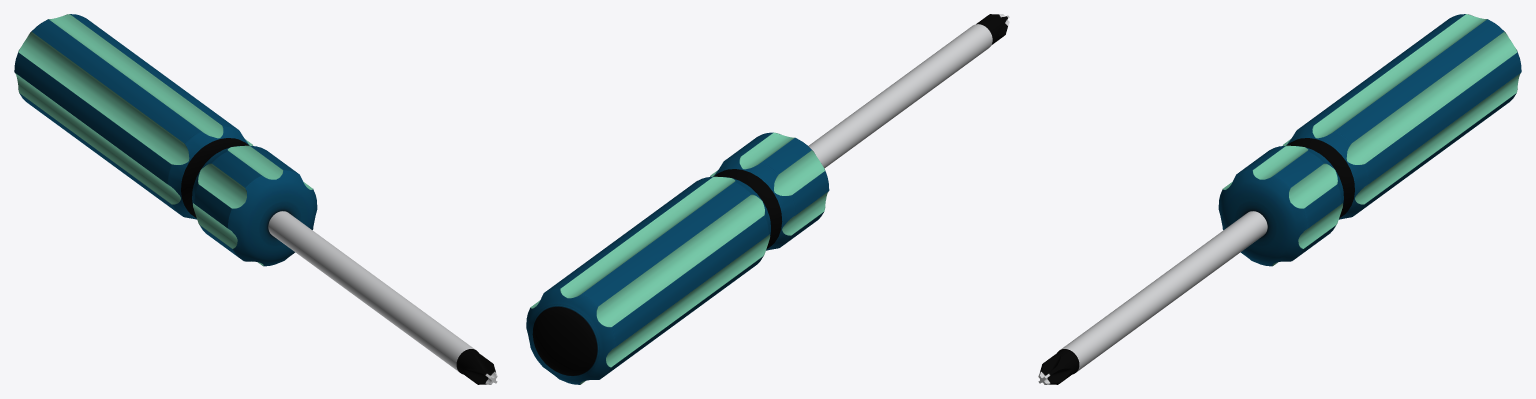
The model's file is final_screwdriver_v2.glb.
The picture shows the model from 3 angles, left to right: view 1: azimuth 30°, elevation 25°; view 2: azimuth 150°, elevation 25°; view 3: azimuth 330°, elevation 25°; orthographic projection.
Parts seen in each view (by area): view 1: phillips_screwdriver_LP; view 2: phillips_screwdriver_LP; view 3: phillips_screwdriver_LP.
Boxes of the visible parts, x1=… form: phillips_screwdriver_LP: x1=14, y1=14, x2=497, y2=384; phillips_screwdriver_LP: x1=526, y1=14, x2=1009, y2=384; phillips_screwdriver_LP: x1=1038, y1=14, x2=1521, y2=384.
Bounding box in the file's own units: 1.75 × 1.73 × 15.11.
Materials: 1 (1 with a texture image).
